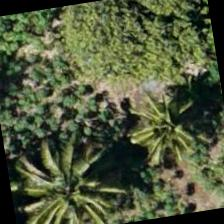Kelapa_Sawit: (118, 74, 222, 178), (16, 142, 120, 223)
